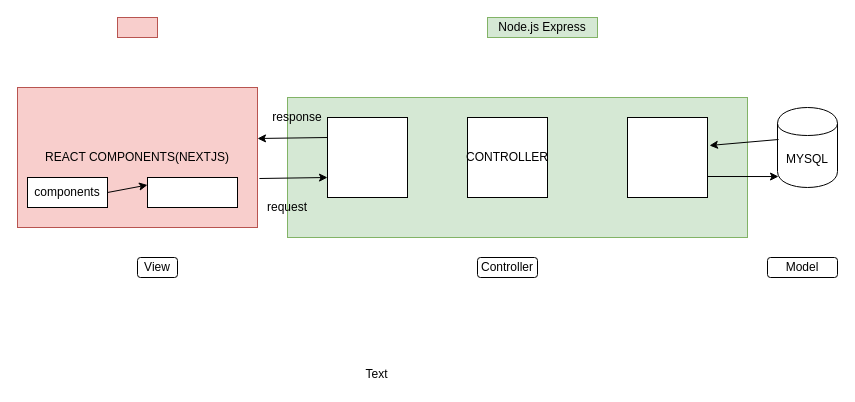
This 855x402 diagram has some shape labels left out. The centre of each missing label's shape, as x and y in pixels:
"Client" goes at point (137, 27).
"pages" goes at point (192, 192).
"ROUTER" goes at point (367, 157).
"SEQUELIZE-ORM" goes at point (667, 157).
